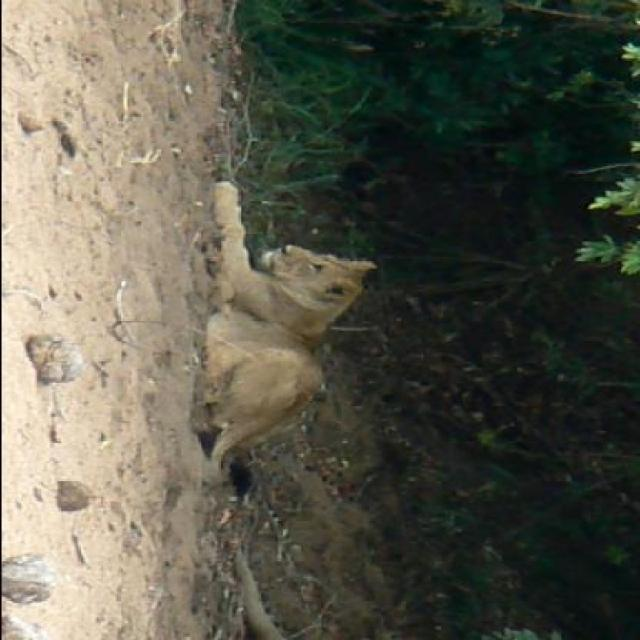Lion: (174, 152, 389, 498)
